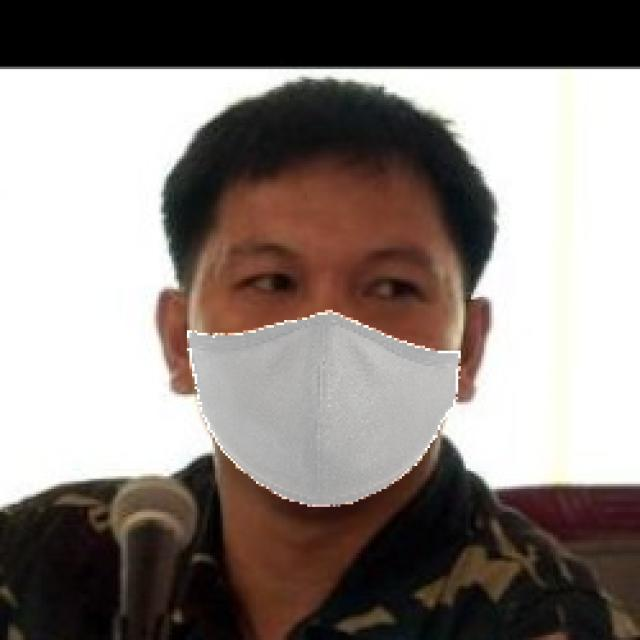cloth: (169, 92, 460, 504)
